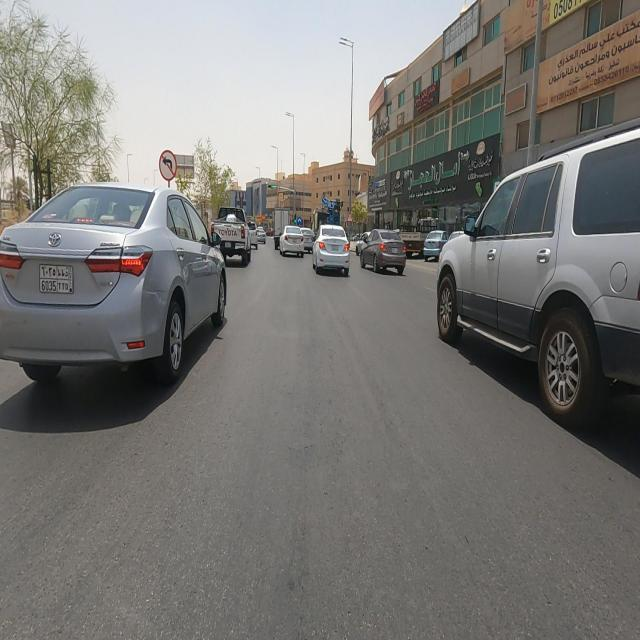debris: (412, 0, 522, 63), (488, 49, 535, 142), (428, 45, 486, 116)
